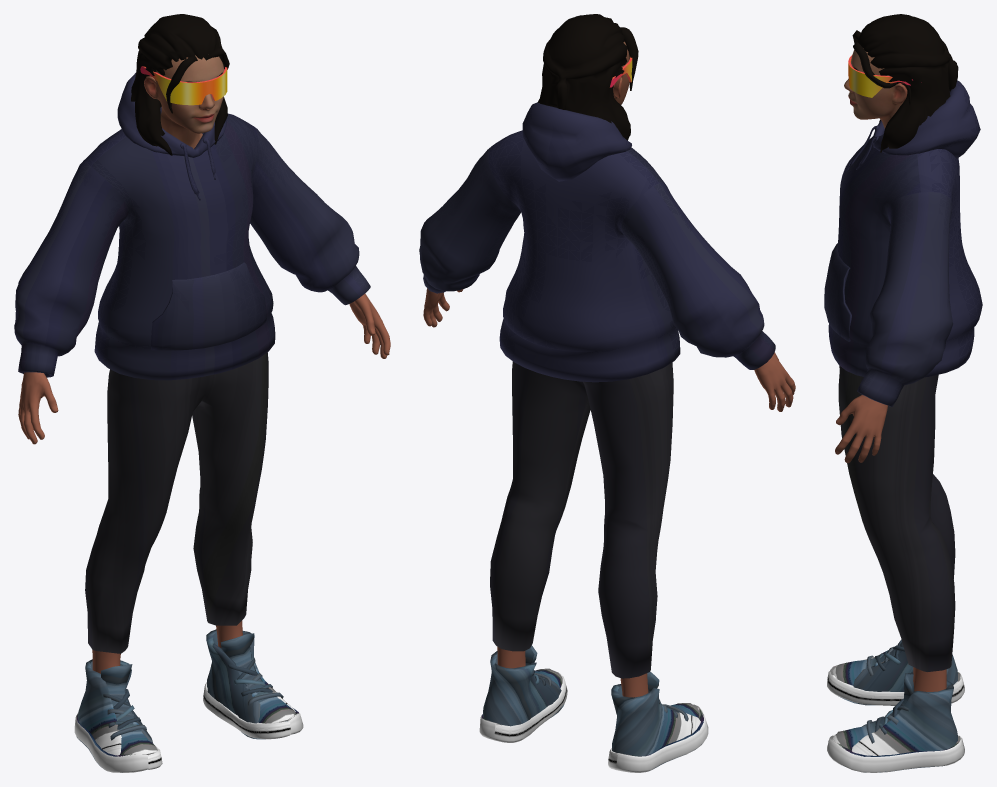
Rendered from idle.fbx.
3 renders of one model, left to right at view 1: azimuth 30°, elevation 25°; view 2: azimuth 150°, elevation 25°; view 3: azimuth 270°, elevation 25°, orthographic.
Visible parts, largest first — view 1: Wolf3D_Outfit_Top, Wolf3D_Outfit_Bottom, Wolf3D_Outfit_Footwear, Wolf3D_Hair, Wolf3D_Body, Wolf3D_Head, Wolf3D_Glasses; view 2: Wolf3D_Outfit_Top, Wolf3D_Outfit_Bottom, Wolf3D_Outfit_Footwear, Wolf3D_Hair, Wolf3D_Body; view 3: Wolf3D_Outfit_Top, Wolf3D_Outfit_Bottom, Wolf3D_Outfit_Footwear, Wolf3D_Hair, Wolf3D_Body, Wolf3D_Head, Wolf3D_Glasses.
Part boxes in pixels (box(x1,y1,x2,y2)): Wolf3D_Outfit_Top: box(14, 72, 370, 380); Wolf3D_Outfit_Bottom: box(85, 352, 268, 653); Wolf3D_Outfit_Footwear: box(74, 629, 303, 772); Wolf3D_Hair: box(131, 14, 229, 155); Wolf3D_Body: box(18, 293, 390, 673); Wolf3D_Head: box(144, 55, 224, 148); Wolf3D_Glasses: box(140, 66, 227, 105); Wolf3D_Outfit_Top: box(419, 102, 775, 382); Wolf3D_Outfit_Bottom: box(490, 361, 673, 678); Wolf3D_Outfit_Footwear: box(479, 645, 708, 772); Wolf3D_Hair: box(537, 14, 638, 140); Wolf3D_Body: box(423, 288, 795, 697); Wolf3D_Outfit_Top: box(824, 80, 982, 406); Wolf3D_Outfit_Bottom: box(838, 366, 955, 671); Wolf3D_Outfit_Footwear: box(827, 639, 964, 772); Wolf3D_Hair: box(852, 14, 958, 152); Wolf3D_Body: box(835, 395, 946, 691); Wolf3D_Head: box(844, 48, 907, 128); Wolf3D_Glasses: box(848, 55, 921, 97).
Size of the model in its own units: 0.9283 by 1.76 by 0.3562.
Materials: 9 (9 with a texture image).
